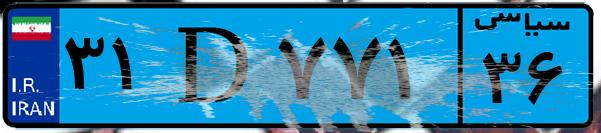1: (385, 28, 445, 110), (110, 28, 158, 98)
3: (57, 26, 110, 100), (475, 38, 525, 113)
6: (525, 38, 570, 115)
7: (270, 28, 330, 110), (330, 28, 385, 110)
D: (158, 12, 270, 120)
